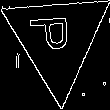P_E: (33, 19, 81, 60)
